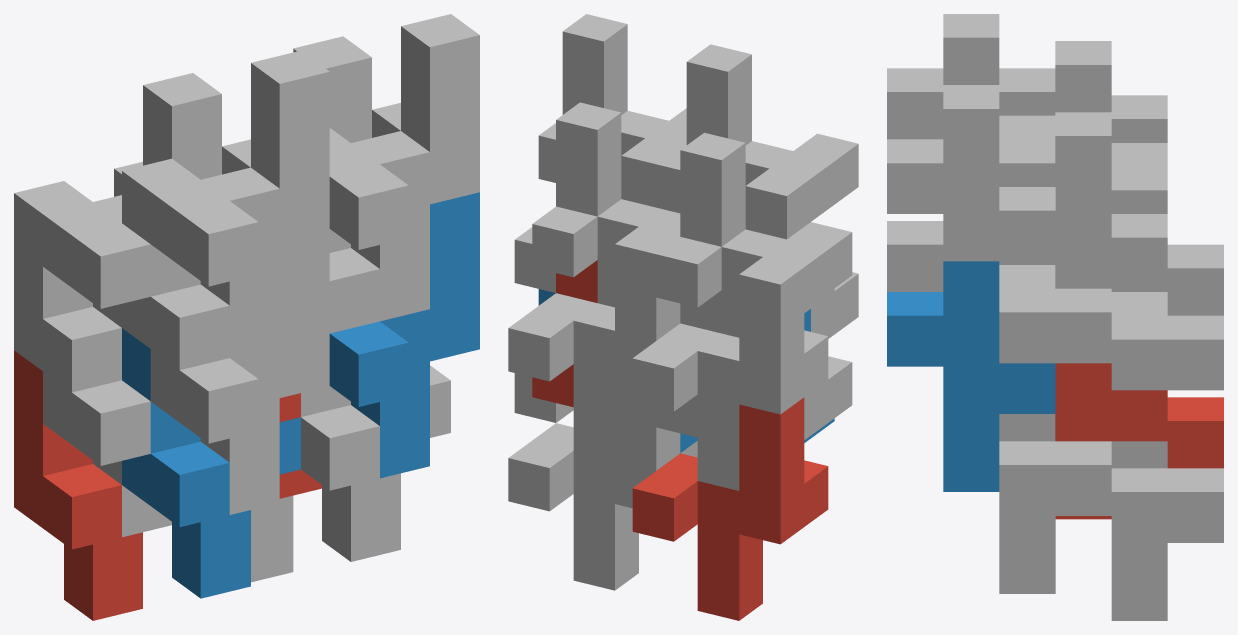
File: tiling.obj
The picture shows the model from 3 angles, left to right: view 1: azimuth 30°, elevation 25°; view 2: azimuth 150°, elevation 25°; view 3: azimuth 270°, elevation 25°; orthographic projection. The views are drawn at different scales.
Parts seen in each view (by area): view 1: copy_2_domain_4, copy_2_domain_8, copy_2_domain_2, copy_2_domain_6, copy_1_domain_1, copy_2_domain_3, copy_1_domain_2, copy_1_domain_6, copy_1_domain_3, copy_1_domain_4, copy_2_domain_1, copy_2_domain_7 (+3 smaller); view 2: copy_1_domain_3, copy_1_domain_1, copy_2_domain_3, copy_1_domain_7, copy_1_domain_5, copy_2_domain_7, copy_2_domain_4, copy_2_domain_8, copy_2_domain_1, copy_1_domain_8, copy_1_domain_4, copy_2_domain_5 (+2 smaller); view 3: copy_2_domain_6, copy_2_domain_8, copy_1_domain_8, copy_1_domain_7, copy_2_domain_7, copy_1_domain_5, copy_1_domain_6, copy_2_domain_4, copy_2_domain_5, copy_1_domain_3, copy_2_domain_3, copy_1_domain_1 (+2 smaller).
Part boxes in pixels (<box>): copy_2_domain_4: <box>150,50,329,357</box>; copy_2_domain_8: <box>329,14,479,321</box>; copy_2_domain_2: <box>150,229,329,514</box>; copy_2_domain_6: <box>329,192,479,478</box>; copy_1_domain_1: <box>14,350,142,620</box>; copy_2_domain_3: <box>43,73,221,327</box>; copy_1_domain_2: <box>122,328,300,598</box>; copy_1_domain_6: <box>301,365,450,561</box>; copy_1_domain_3: <box>14,181,121,392</box>; copy_1_domain_4: <box>122,158,229,369</box>; copy_2_domain_1: <box>43,371,171,537</box>; copy_2_domain_7: <box>293,36,371,142</box>; copy_1_domain_3: <box>632,257,828,490</box>; copy_1_domain_1: <box>632,397,828,620</box>; copy_2_domain_3: <box>656,132,852,337</box>; copy_1_domain_7: <box>508,227,680,460</box>; copy_1_domain_5: <box>508,374,697,590</box>; copy_2_domain_7: <box>532,102,680,307</box>; copy_2_domain_4: <box>662,44,858,221</box>; copy_2_domain_8: <box>538,14,686,182</box>; copy_2_domain_1: <box>656,290,852,439</box>; copy_1_domain_8: <box>514,138,683,292</box>; copy_1_domain_4: <box>745,168,834,312</box>; copy_2_domain_5: <box>532,260,597,407</box>; copy_2_domain_6: <box>887,261,1055,491</box>; copy_2_domain_8: <box>887,85,1055,261</box>; copy_1_domain_8: <box>999,139,1111,441</box>; copy_1_domain_7: <box>1111,166,1223,468</box>; copy_2_domain_7: <box>1055,112,1167,288</box>; copy_1_domain_5: <box>1111,468,1223,620</box>; copy_1_domain_6: <box>999,441,1111,593</box>; copy_2_domain_4: <box>887,14,1055,139</box>; copy_2_domain_5: <box>1055,363,1167,519</box>; copy_1_domain_3: <box>1111,95,1223,315</box>; copy_2_domain_3: <box>1055,41,1167,166</box>; copy_1_domain_1: <box>1167,397,1223,468</box>.
Size of the model in its own units: 7 by 11 by 6.
